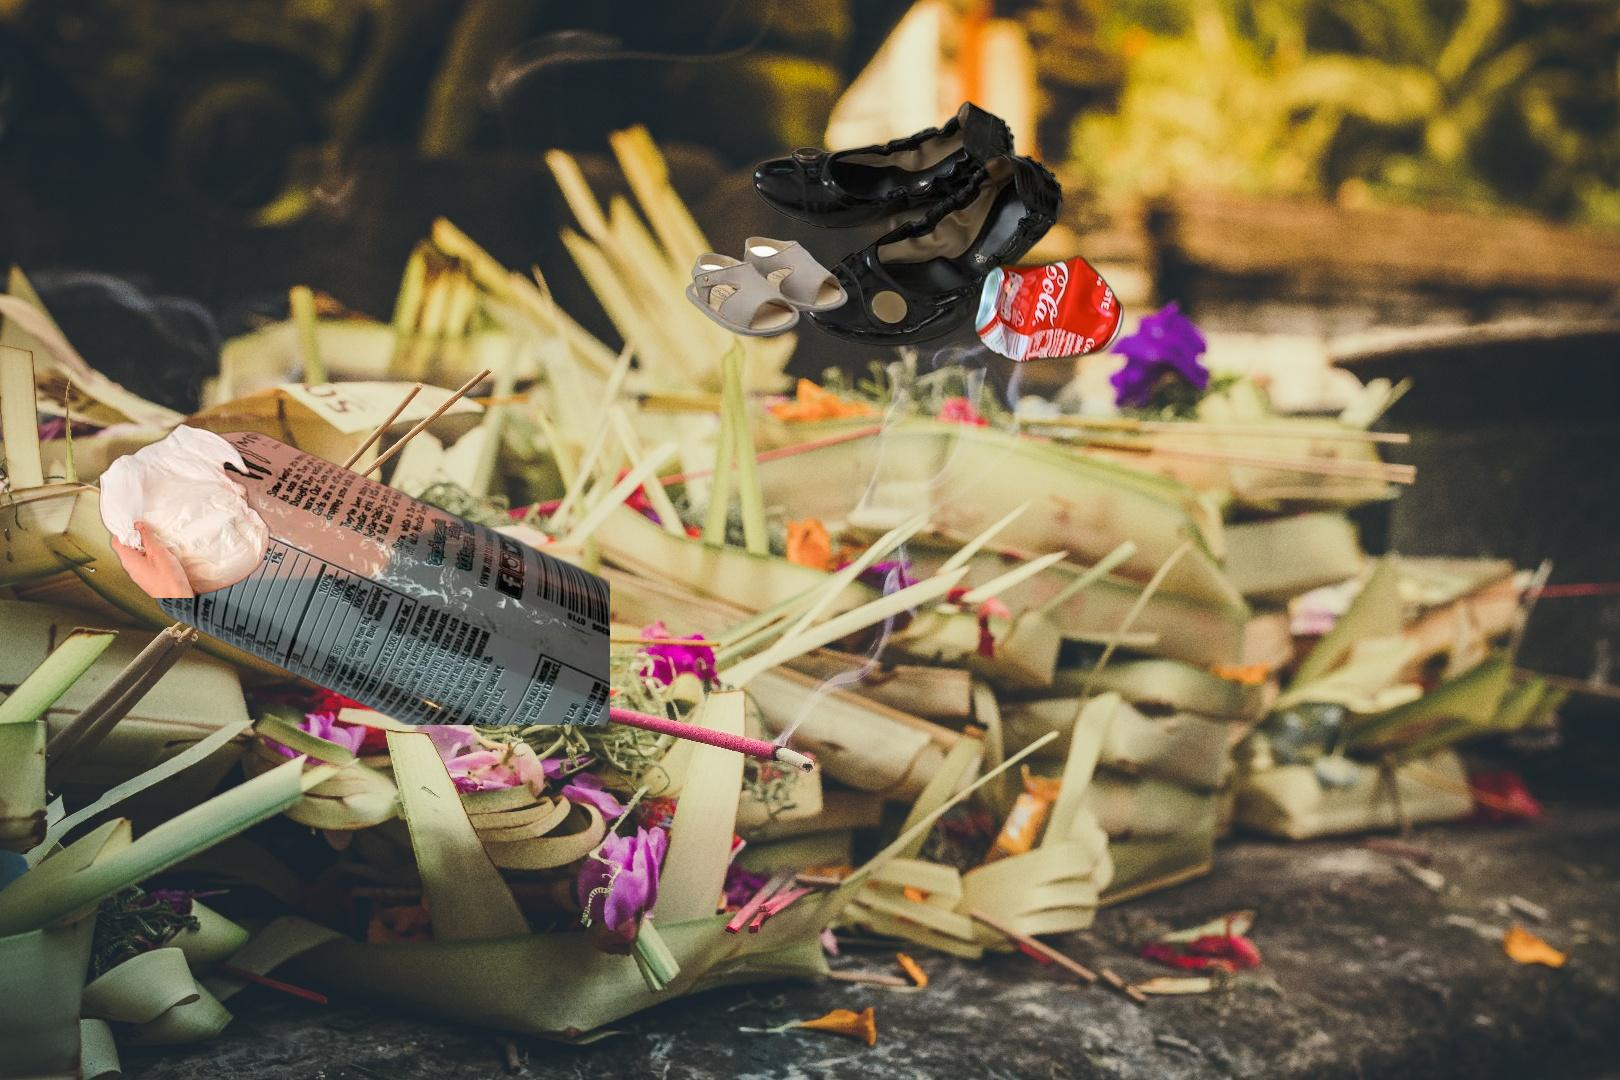metal-cans: (117, 425, 610, 724), (969, 250, 1128, 369)
shoes: (749, 96, 1067, 351), (683, 233, 851, 339)
trash: (96, 421, 300, 598)
